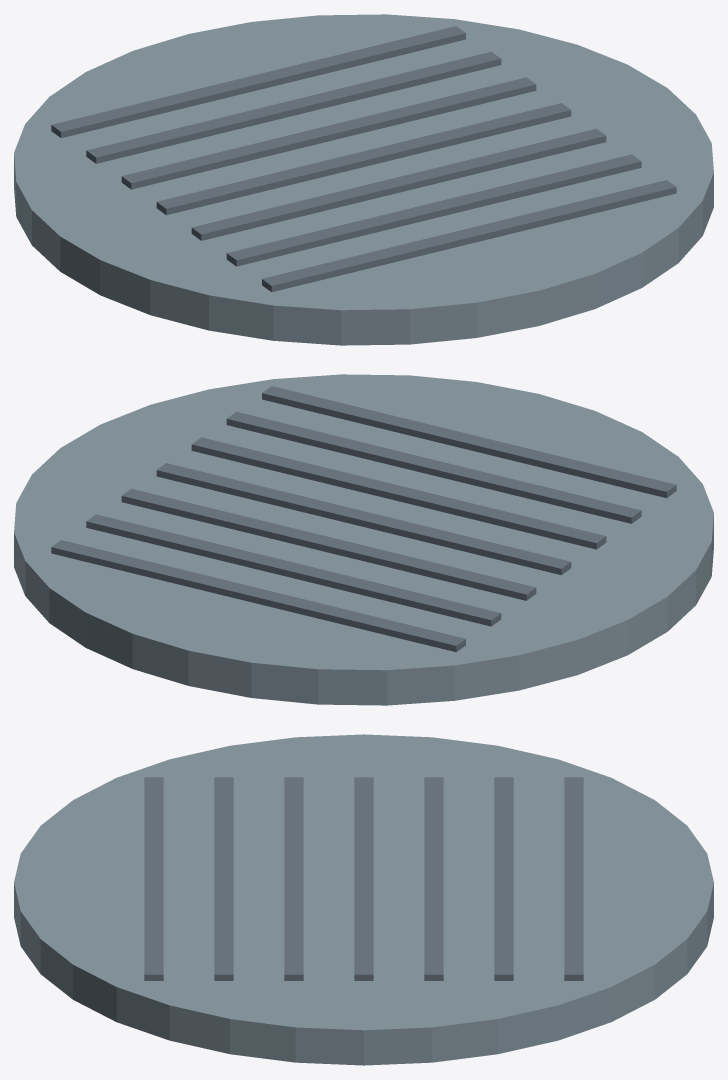
Rendered from manhole.glb.
3 views of the same model, one above another, from view 1: azimuth 30°, elevation 25°; view 2: azimuth 150°, elevation 25°; view 3: azimuth 270°, elevation 25° (orthographic).
Visible parts, largest first — view 1: manhole_000, manhole_002, manhole_005, manhole_004, manhole_006, manhole_003, manhole_001, manhole_007; view 2: manhole_000, manhole_003, manhole_006, manhole_002, manhole_004, manhole_005, manhole_007, manhole_001; view 3: manhole_000, manhole_001, manhole_002, manhole_003, manhole_004, manhole_005, manhole_006, manhole_007.
Boxes of the visible parts, left/top/right/bottom form: manhole_000: left=14, top=14, right=713, bottom=345; manhole_002: left=226, top=154, right=641, bottom=266; manhole_005: left=121, top=77, right=536, bottom=189; manhole_004: left=156, top=103, right=571, bottom=215; manhole_006: left=86, top=51, right=501, bottom=163; manhole_003: left=191, top=128, right=606, bottom=240; manhole_001: left=262, top=180, right=676, bottom=292; manhole_007: left=51, top=26, right=465, bottom=138; manhole_000: left=14, top=374, right=713, bottom=705; manhole_003: left=191, top=437, right=606, bottom=549; manhole_006: left=86, top=514, right=501, bottom=626; manhole_002: left=226, top=411, right=641, bottom=523; manhole_004: left=156, top=463, right=571, bottom=575; manhole_005: left=121, top=488, right=536, bottom=600; manhole_007: left=51, top=540, right=465, bottom=652; manhole_001: left=262, top=386, right=676, bottom=498; manhole_000: left=14, top=734, right=713, bottom=1065; manhole_001: left=144, top=777, right=163, bottom=980; manhole_002: left=214, top=777, right=233, bottom=980; manhole_003: left=284, top=777, right=303, bottom=980; manhole_004: left=354, top=777, right=373, bottom=980; manhole_005: left=424, top=777, right=443, bottom=980; manhole_006: left=494, top=777, right=513, bottom=980; manhole_007: left=564, top=777, right=583, bottom=980.
Bounding box in the file's own units: 0.9 × 0.059 × 0.9.
